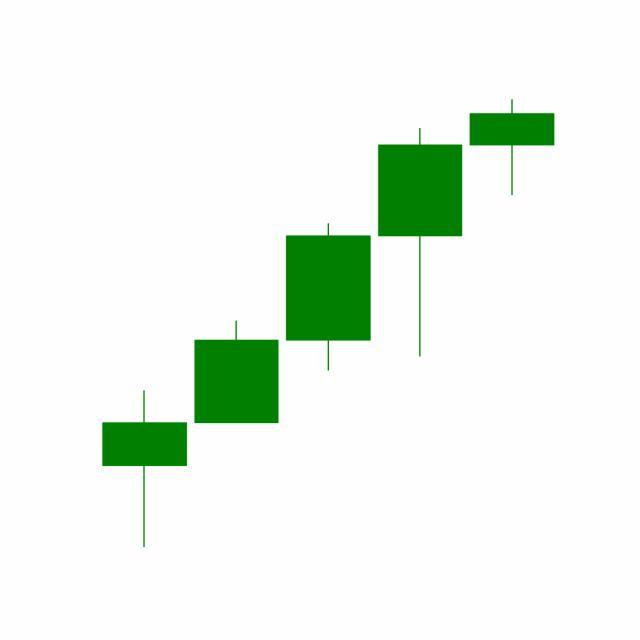Hanging Man: (466, 99, 559, 197)
